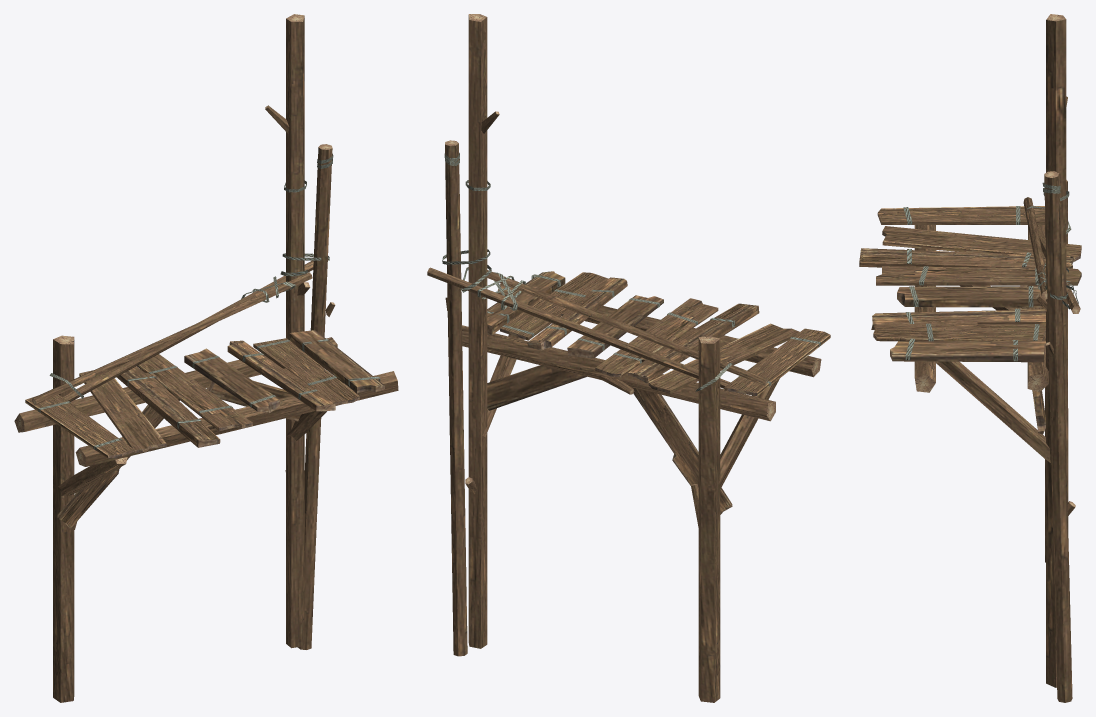
Rendered from environment_stone_qiaobi_002_d.FBX.
3 views of the same model, side by side, from view 1: azimuth 30°, elevation 25°; view 2: azimuth 150°, elevation 25°; view 3: azimuth 270°, elevation 25° (orthographic). The views are drawn at different scales.
Parts seen in each view (by area): view 1: environment_stone_qiaobi_002_d; view 2: environment_stone_qiaobi_002_d; view 3: environment_stone_qiaobi_002_d.
Part boxes in pixels (x1,y1,x2,y2): environment_stone_qiaobi_002_d: (14,14,398,702); environment_stone_qiaobi_002_d: (427,14,830,702); environment_stone_qiaobi_002_d: (859,14,1081,702).
Bounding box in the file's own units: 473 × 886 × 264.
Materials: 1 (1 with a texture image).
